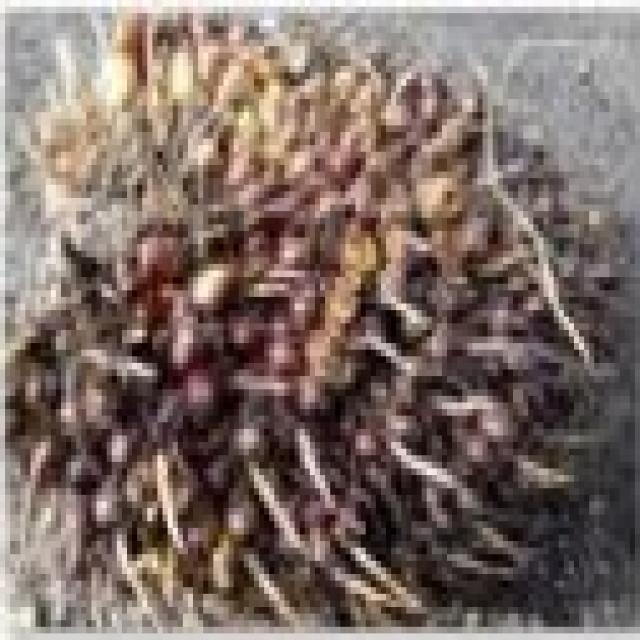FFB: (3, 2, 609, 611)
